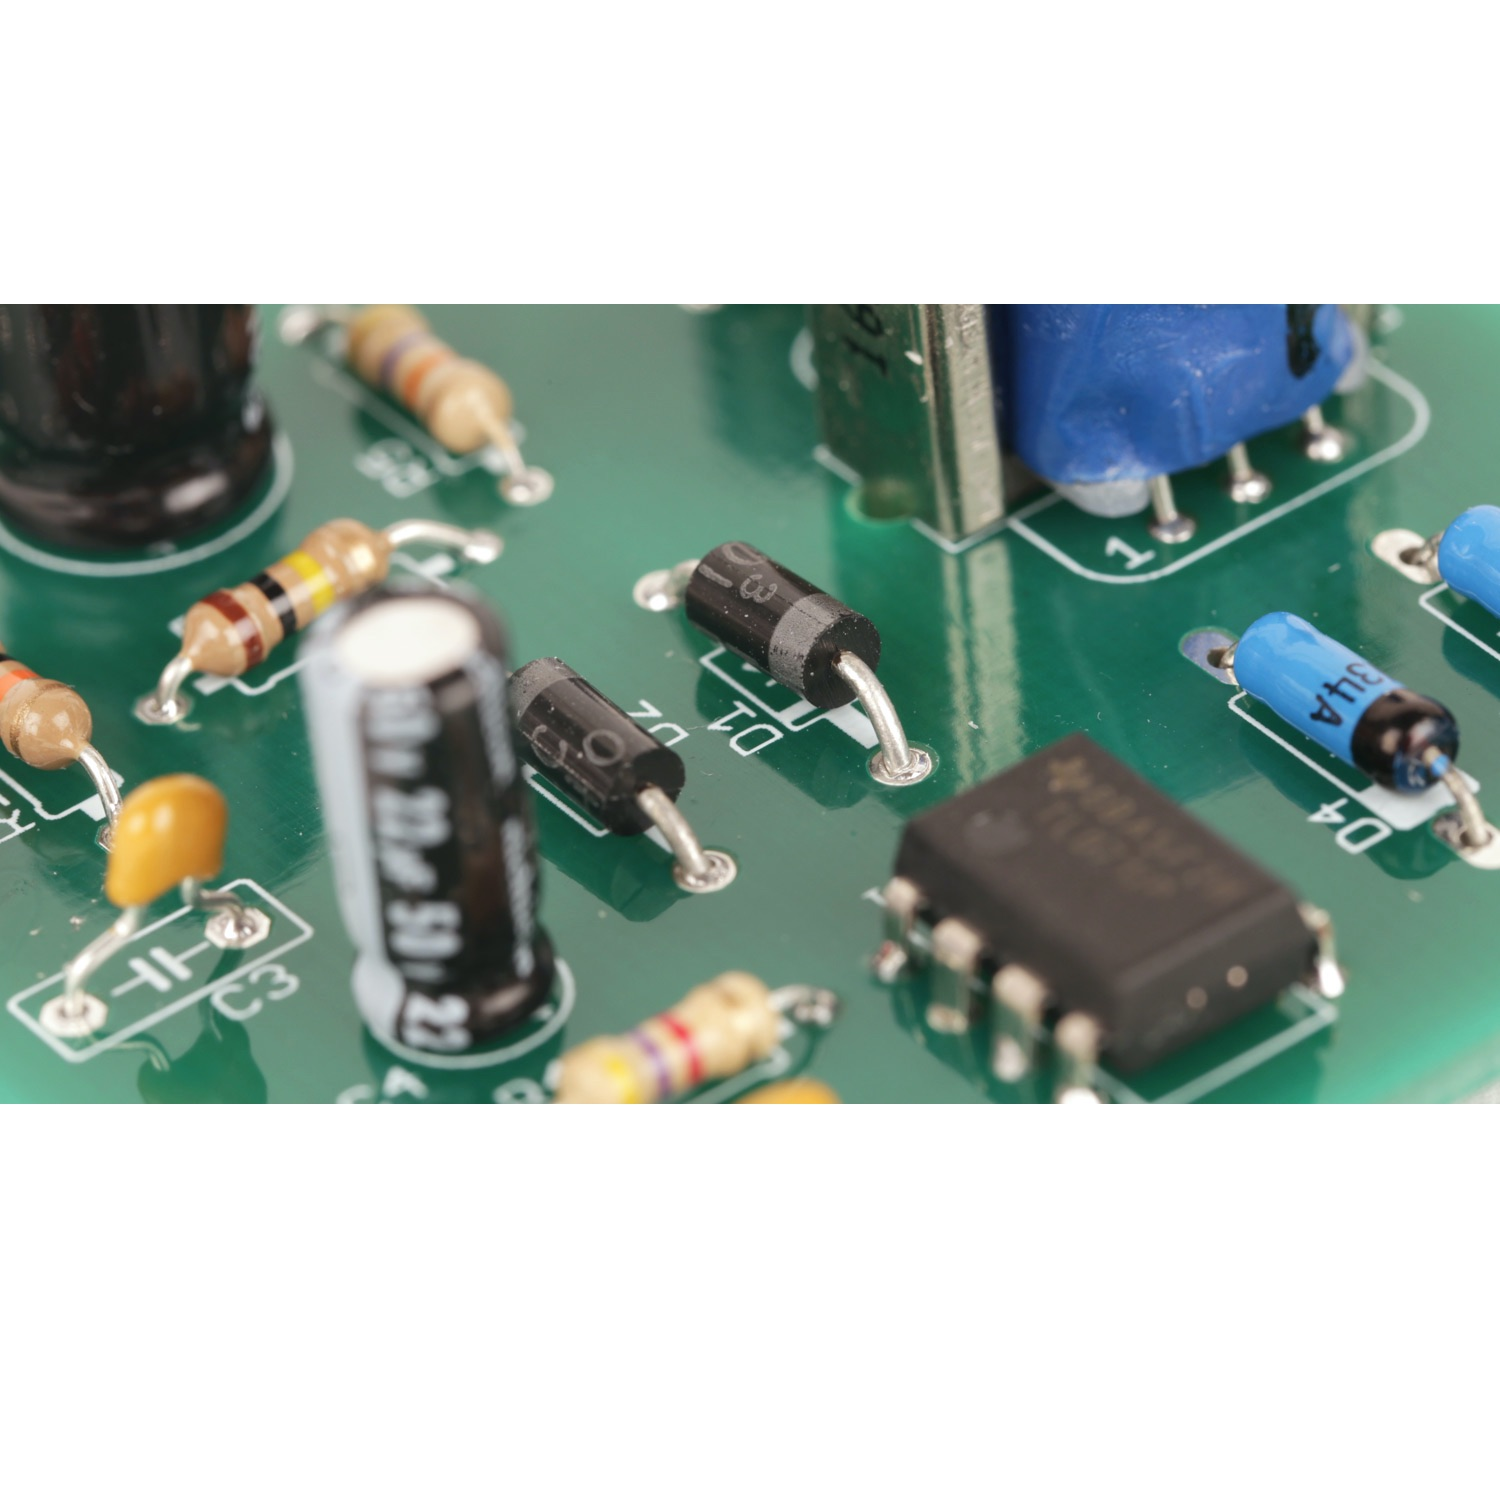Capacitor: (288, 573, 567, 1059)
Diode: (1225, 607, 1464, 798), (679, 534, 889, 716), (497, 650, 690, 841)
Resistor: (168, 518, 394, 687), (543, 968, 804, 1110), (337, 298, 516, 457), (1, 648, 106, 784)
